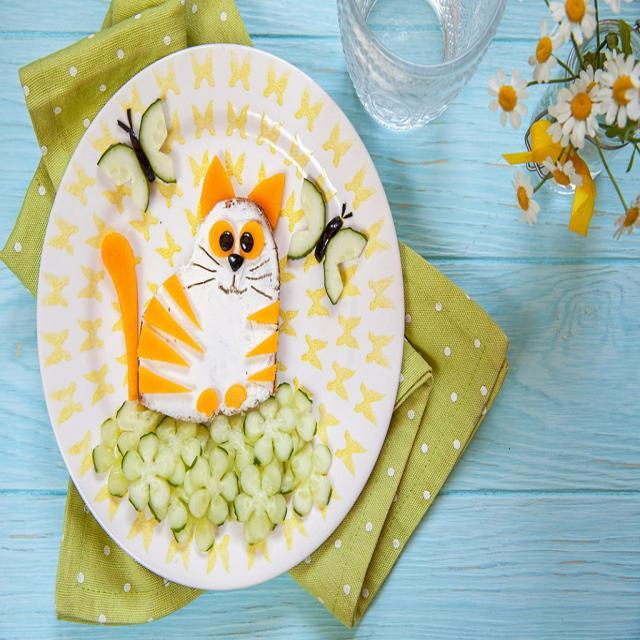ceramic plate: (47, 71, 409, 592)
